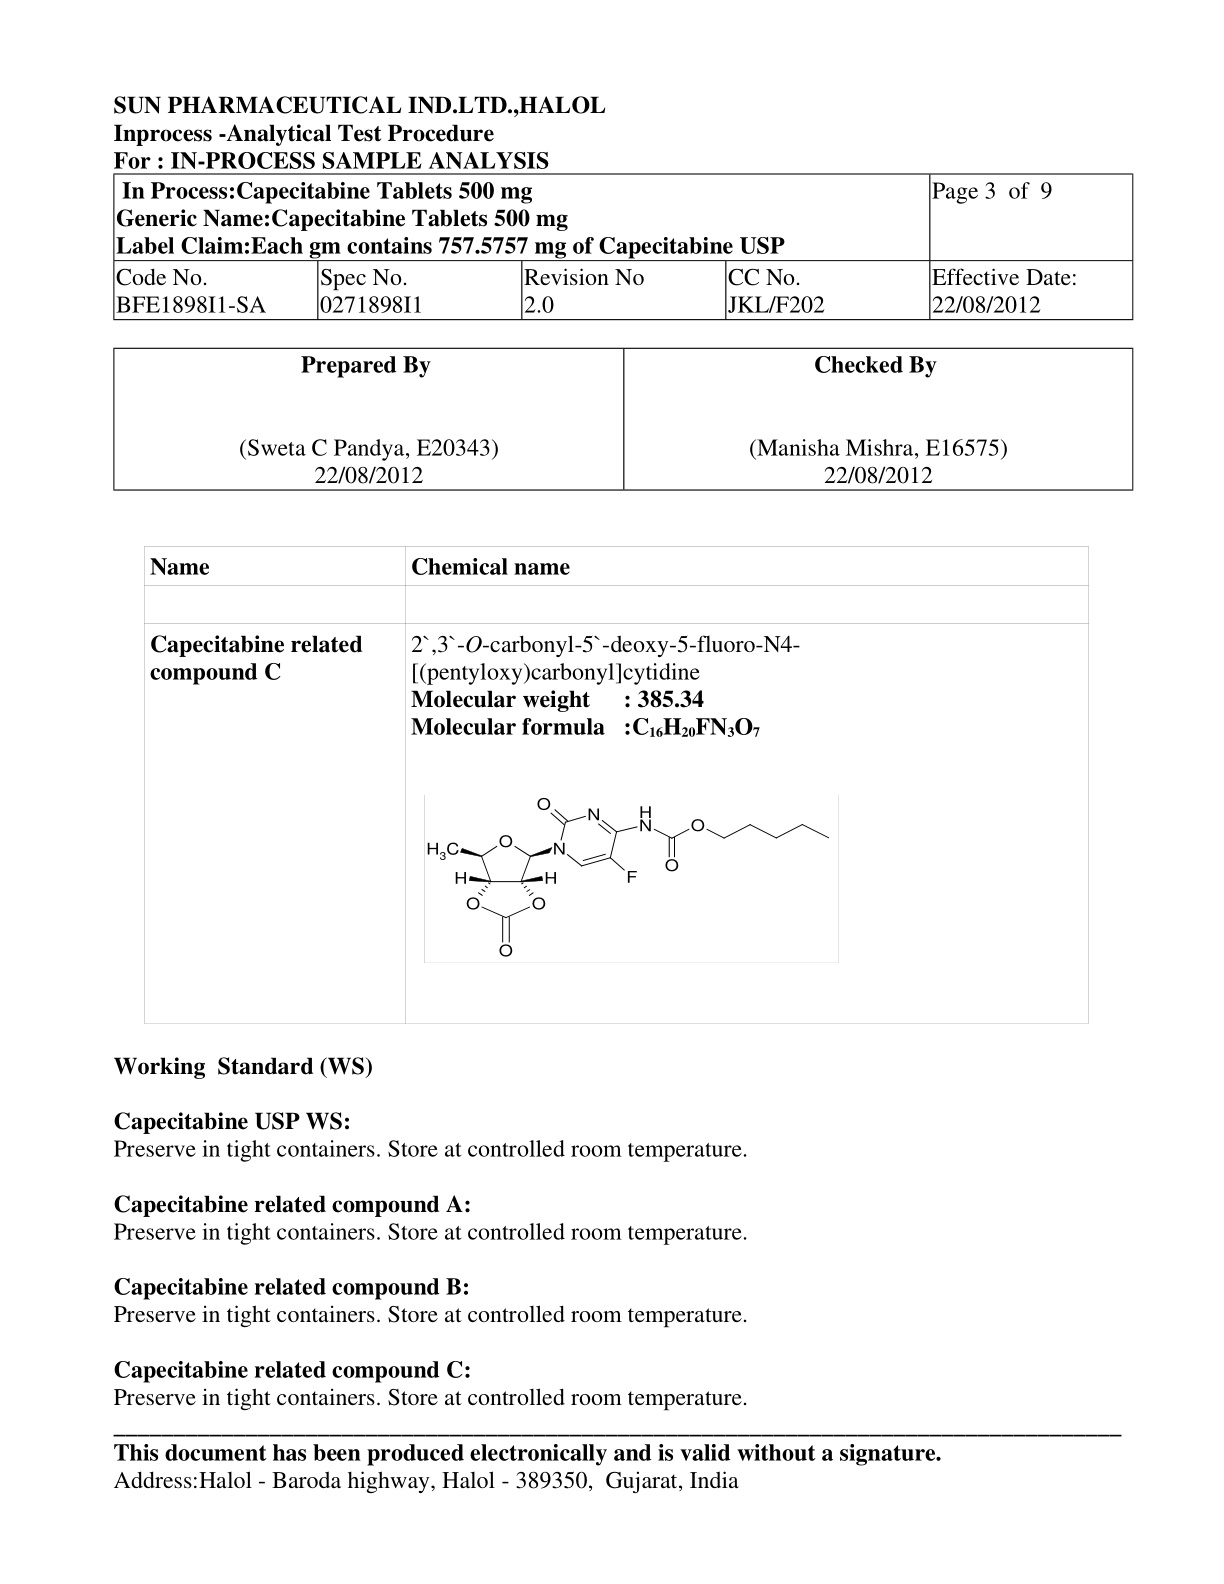full_lined: (143, 545, 1089, 1023), (112, 346, 1133, 492)
merged_cells: (112, 172, 1134, 321)
